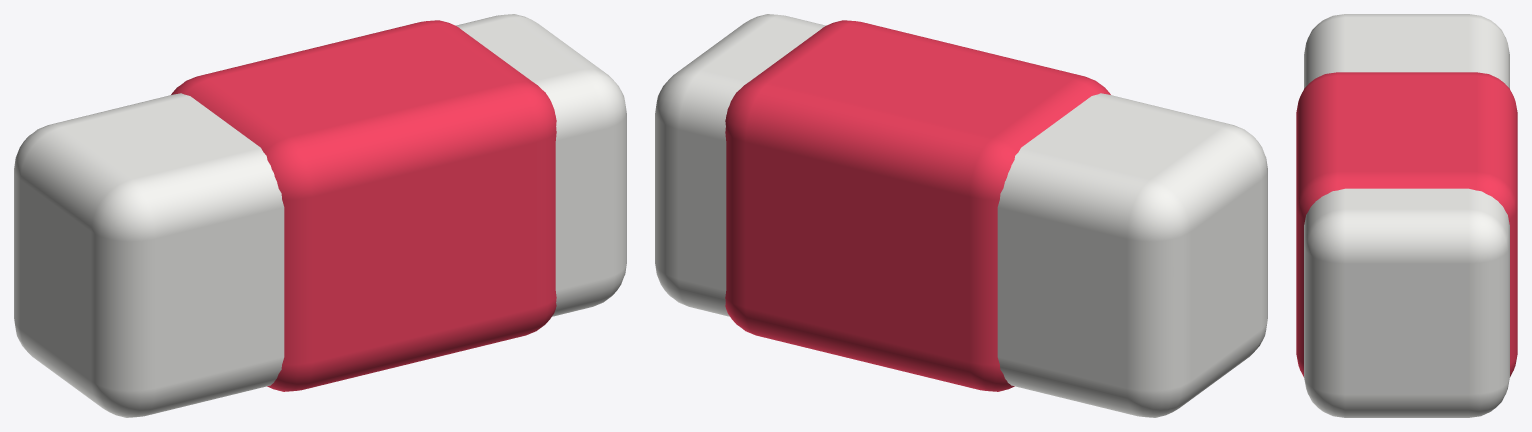
File: eraser.obj
The picture shows the model from 3 angles, left to right: view 1: azimuth 30°, elevation 25°; view 2: azimuth 150°, elevation 25°; view 3: azimuth 270°, elevation 25°; orthographic projection. The views are drawn at different scales.
Parts seen in each view (by area): view 1: eraser_0_0, eraser_1_1764; view 2: eraser_0_0, eraser_1_1764; view 3: eraser_0_0, eraser_1_1764.
Boxes of the visible parts, left/top/right/bottom form: eraser_0_0: left=14, top=14, right=626, bottom=417; eraser_1_1764: left=171, top=20, right=556, bottom=391; eraser_0_0: left=655, top=14, right=1267, bottom=417; eraser_1_1764: left=725, top=20, right=1110, bottom=391; eraser_0_0: left=1304, top=14, right=1509, bottom=417; eraser_1_1764: left=1296, top=72, right=1517, bottom=376.
Bounding box in the file's own units: 0.052 × 0.0235 × 0.0215.
